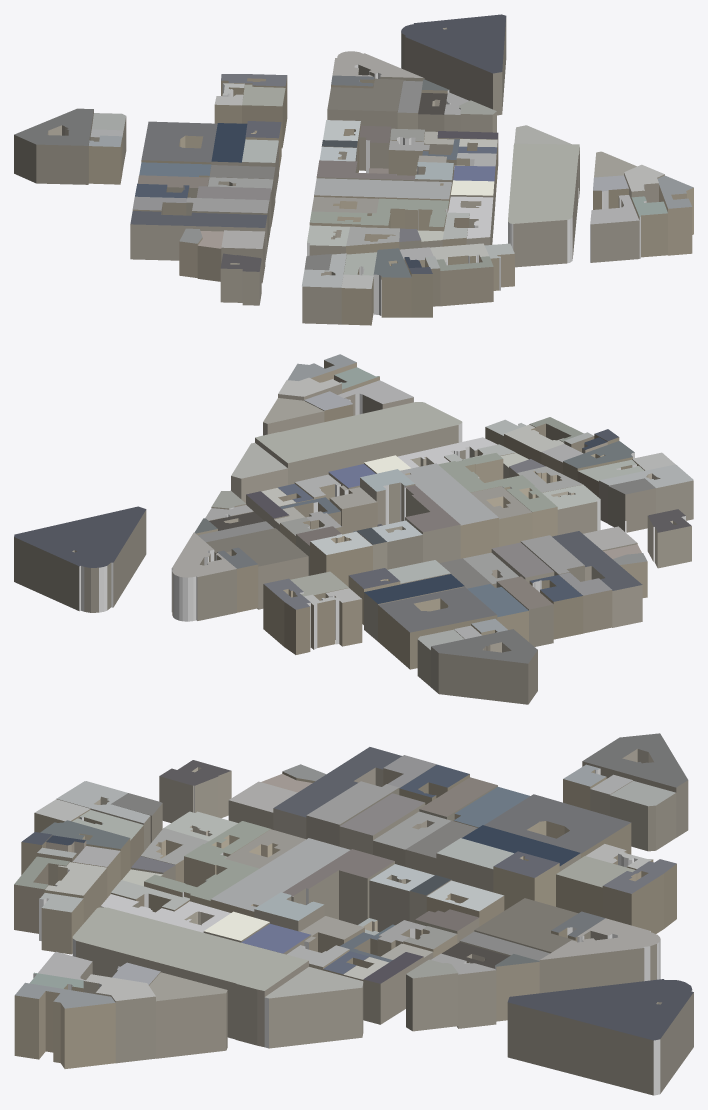
The picture shows the model from 3 angles, top to bottom: view 1: azimuth 30°, elevation 25°; view 2: azimuth 150°, elevation 25°; view 3: azimuth 270°, elevation 25°; orthographic projection. The views are drawn at different scales.
Visible parts, largest first — view 1: tuile; view 2: tuile; view 3: tuile.
Part boxes in pixels (<box>): tuile: <box>14,14,693,325</box>; tuile: <box>14,354,693,704</box>; tuile: <box>14,733,693,1095</box>.
Bounding box in the file's own units: 296 × 31.13 × 276.
